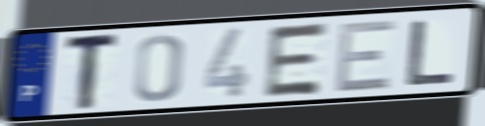0: (131, 32, 187, 104)
4: (202, 25, 252, 102)
E: (260, 20, 332, 100), (332, 16, 398, 95)
L: (403, 17, 458, 88)
T: (63, 30, 123, 113)
